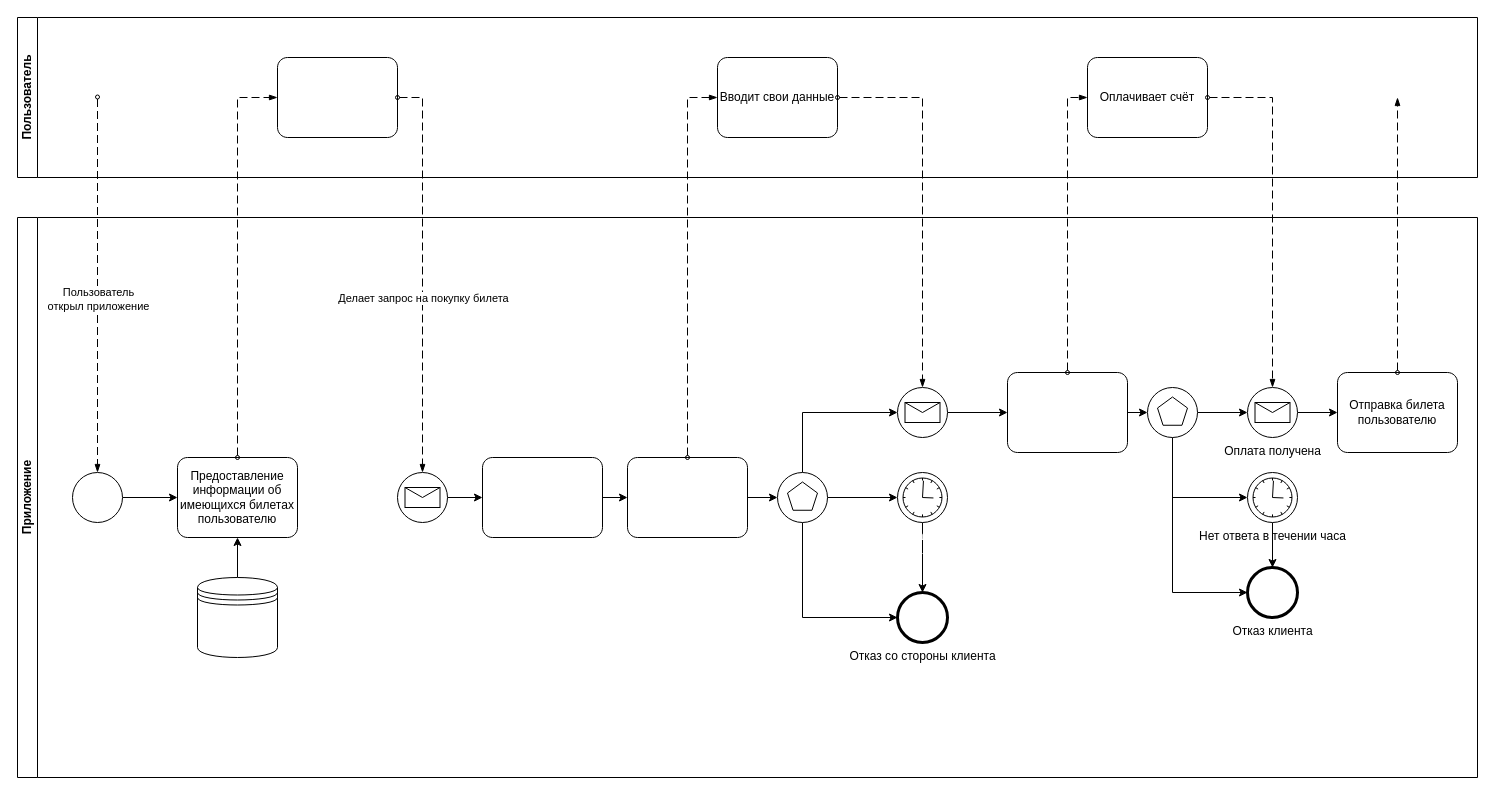
The diagram is 1495 pixels wide and 795 high, and some of its shapes have lost their labels. Here are the shapes that lost their labels. From the top down, the box of each, then its label:
(276, 56, 398, 138): Выбирает подходящий билет
(896, 386, 948, 438): Пользователь ввёл данные
(1006, 372, 1128, 452): Составление и отправление счёта на оплату
(482, 456, 602, 538): Оформление заявки на покупку билета
(626, 456, 748, 538): Запрос на ввод данных пользователя
(196, 576, 278, 658): База данных билетов
